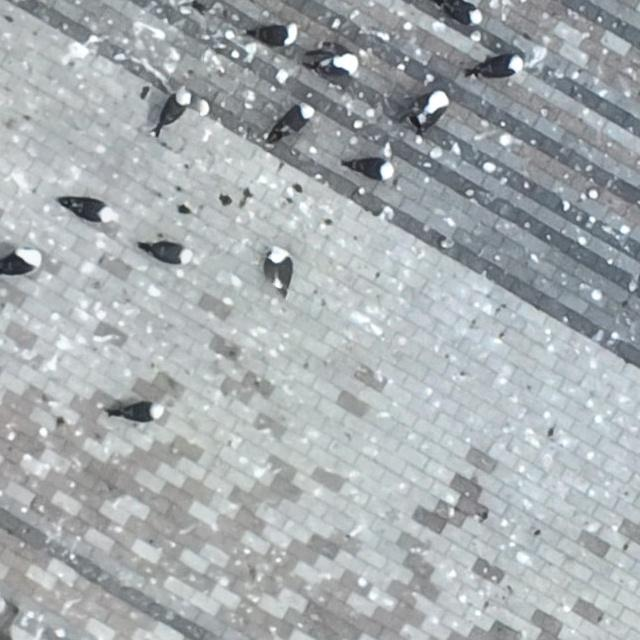umineko: (413, 89, 453, 130), (158, 87, 191, 132), (320, 52, 360, 76), (477, 56, 522, 76), (440, 1, 481, 22), (252, 24, 294, 44), (281, 107, 312, 133), (351, 159, 393, 178), (71, 199, 109, 220), (149, 242, 188, 262), (120, 404, 162, 422), (2, 251, 36, 273), (272, 256, 290, 290)
